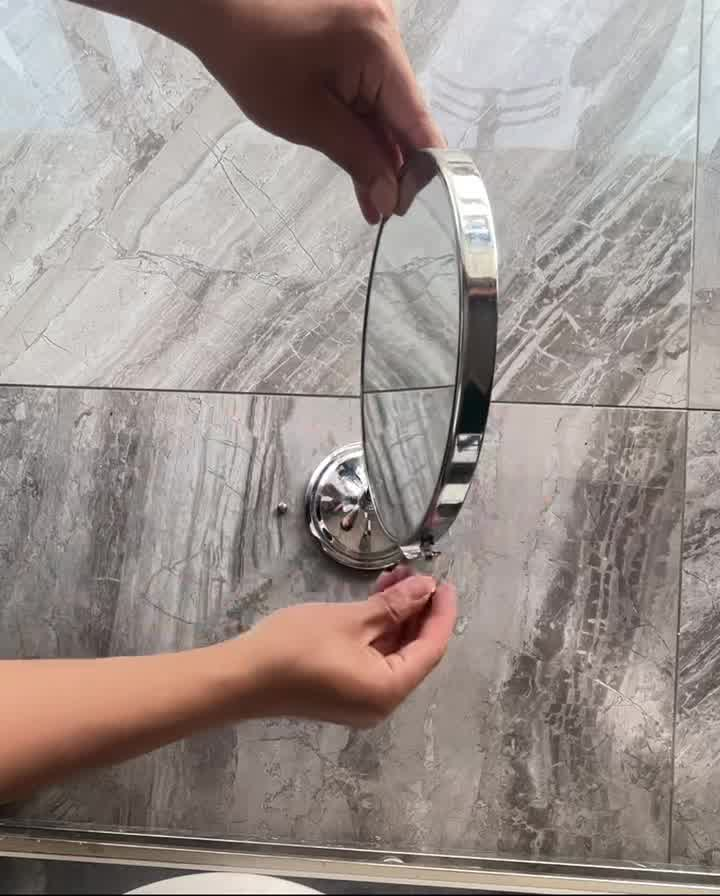base: (309, 444, 451, 577)
mirror: (366, 155, 520, 564)
screw: (264, 494, 298, 526)
